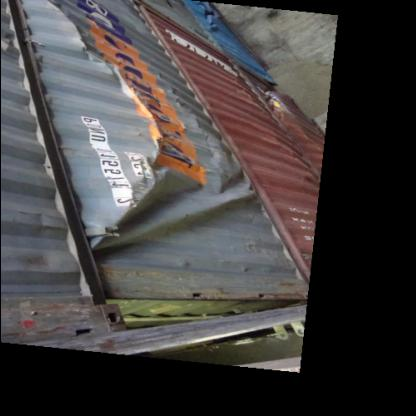Damage: (112, 19, 252, 225), (70, 136, 182, 270), (31, 1, 112, 67)
